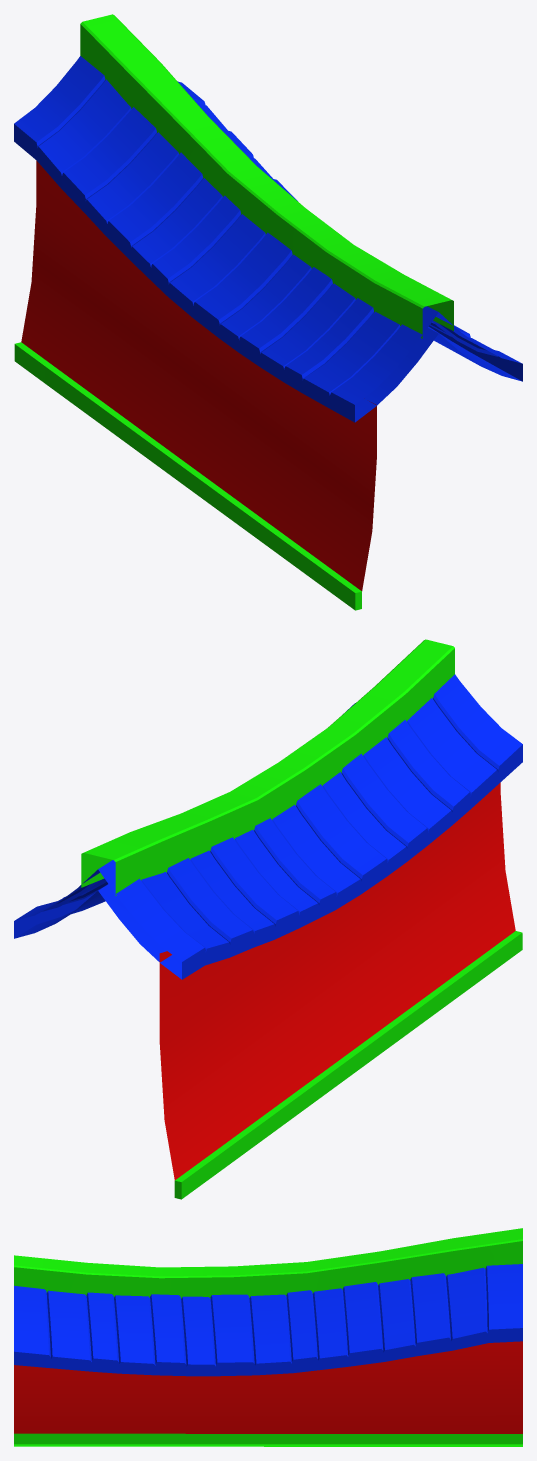
The model's file is Wall_XL 1.fbx.
The picture shows the model from 3 angles, top to bottom: view 1: azimuth 30°, elevation 25°; view 2: azimuth 150°, elevation 25°; view 3: azimuth 270°, elevation 25°; orthographic projection. The views are drawn at different scales.
Parts seen in each view (by area): view 1: Wall_XL; view 2: Wall_XL; view 3: Wall_XL.
Boxes of the visible parts, x1,y1,x2,y2 form: Wall_XL: (14,14,522,610); Wall_XL: (14,639,522,1199); Wall_XL: (14,1228,522,1446).
Bounding box in the file's own units: 225 × 412 × 788.
